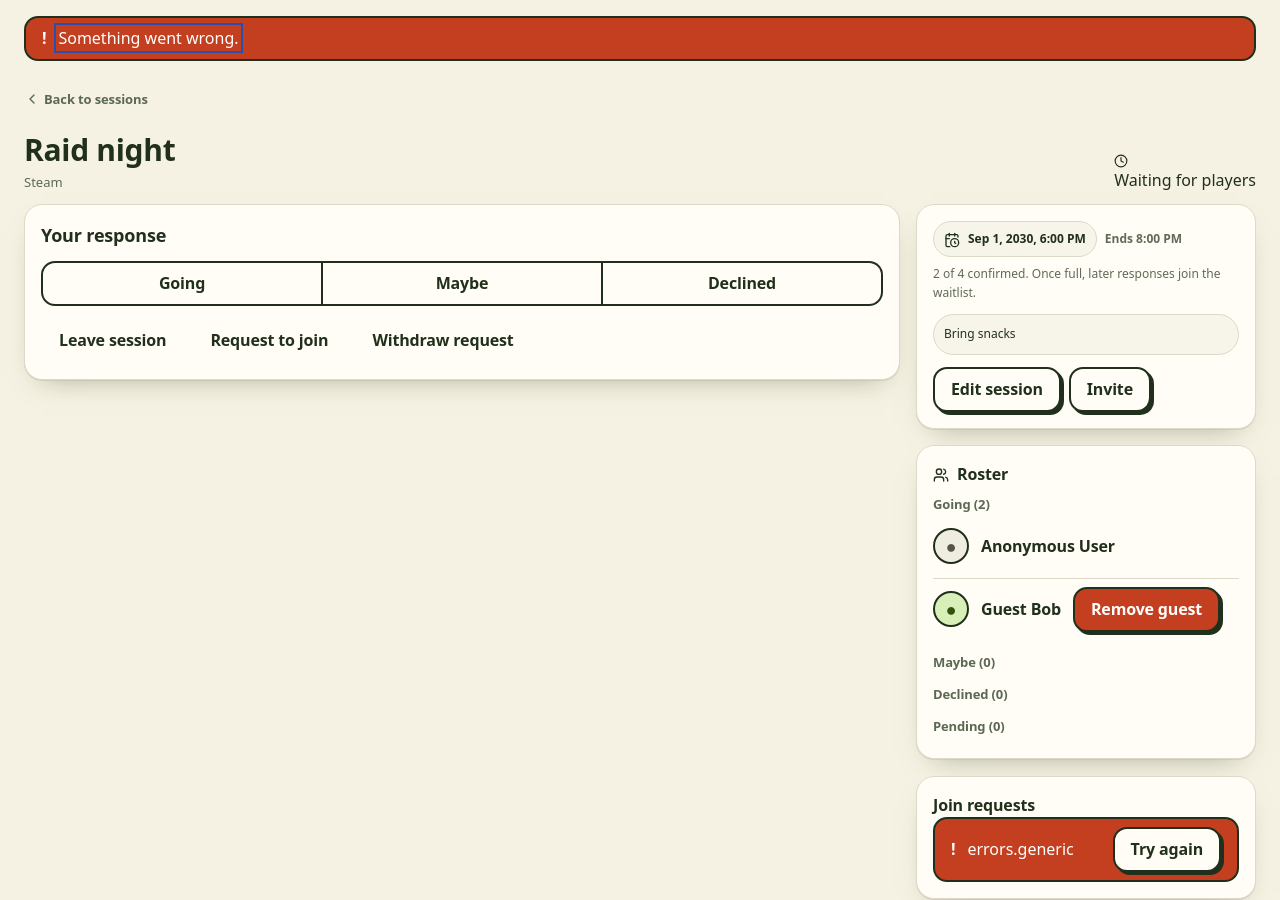
SessionDetailPage (lovable) › pending/error state sweep (frontend audit 2026-08-15 Wave 6) › surfaces a join-requests fetch failure with a retry action instead of vanishing the section
This screenshot has width=1280, height=900.
Check: the element with test id "join-requests-error" is shown, box [916, 776, 1256, 899]
Click the button "Try again" at [1167, 849], box [1113, 827, 1221, 872]
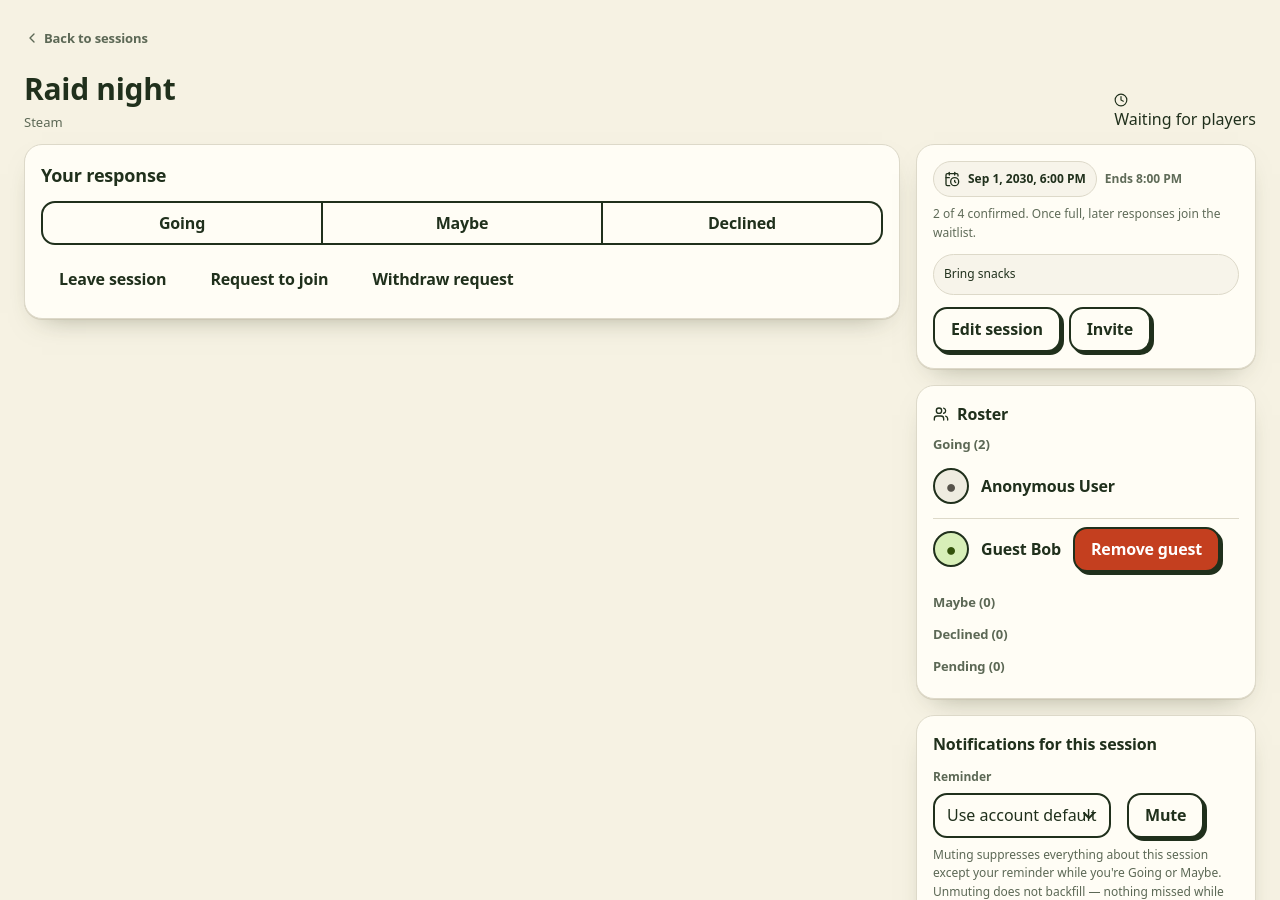
Check: the element with test id "join-requests-error" is gone
